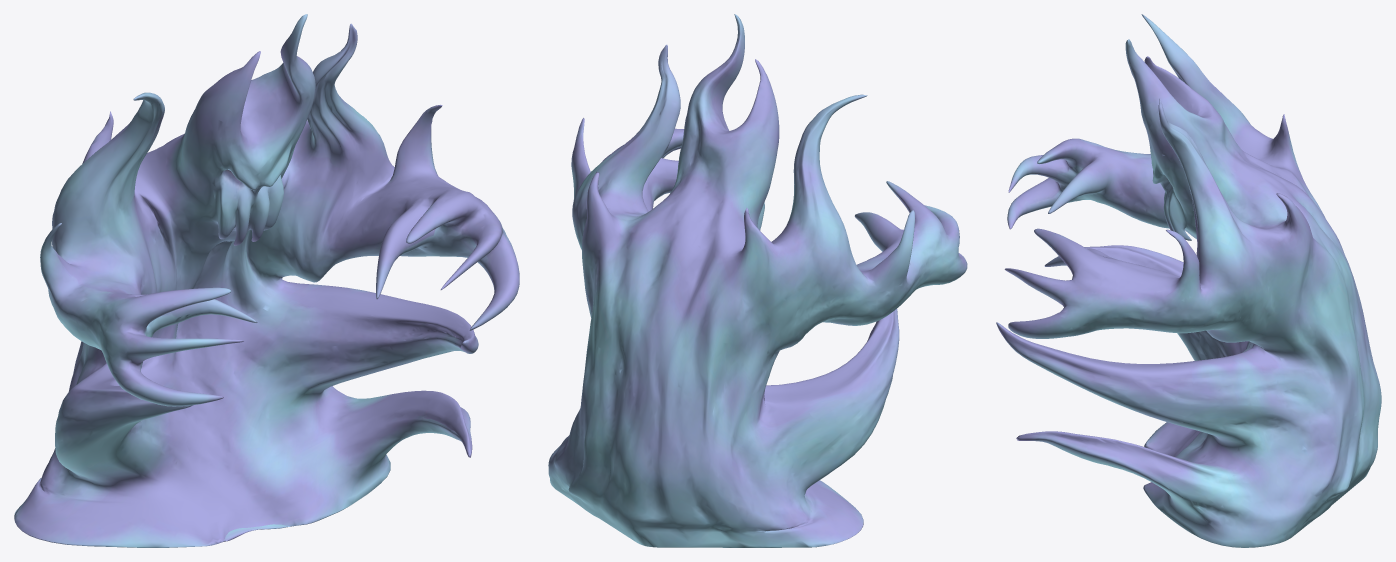
The model's file is MZ4250 - Invisible Stalker.glb.
The picture shows the model from 3 angles, left to right: view 1: azimuth 30°, elevation 25°; view 2: azimuth 150°, elevation 25°; view 3: azimuth 270°, elevation 25°; orthographic projection. The views are drawn at different scales.
Parts seen in each view (by area): view 1: invisibile stalker; view 2: invisibile stalker; view 3: invisibile stalker.
Boxes of the visible parts, x1,y1,x2,y2 form: invisibile stalker: (14, 14, 519, 547); invisibile stalker: (548, 14, 967, 547); invisibile stalker: (996, 14, 1381, 547).
Size of the model in its own units: 0.9558 by 1.18 by 0.9151.
Materials: 1 (1 with a texture image).
